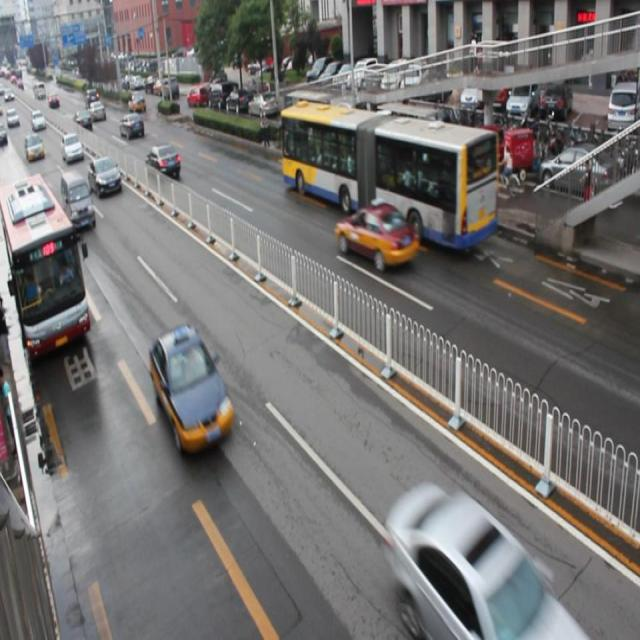car: (387, 486, 577, 640), (150, 326, 233, 455), (336, 200, 420, 272), (88, 156, 122, 198), (146, 143, 181, 179), (120, 112, 144, 138)
truck: (61, 170, 96, 232)
van: (280, 99, 497, 252), (1, 176, 92, 362)
